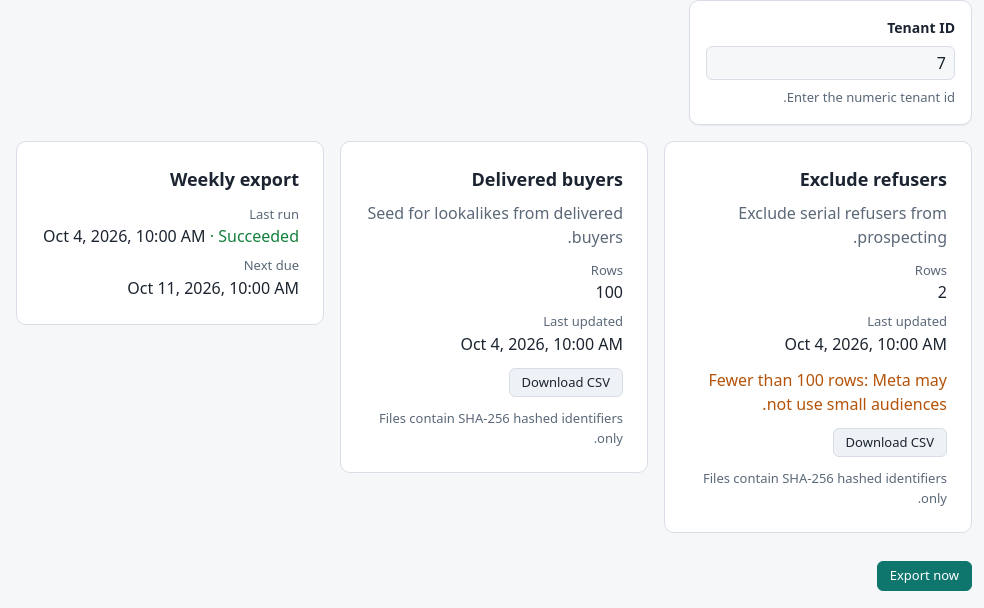
Test: AudiencesPage: behaviour › operator Export now posts and renders the refreshed status from the response
Expected: the heading "Exclude refusers" is shown, [800, 166, 947, 190]
Expected: the text "2" is shown, [938, 281, 947, 303]
Click the button "Export now" at (924, 576), box [877, 561, 972, 590]
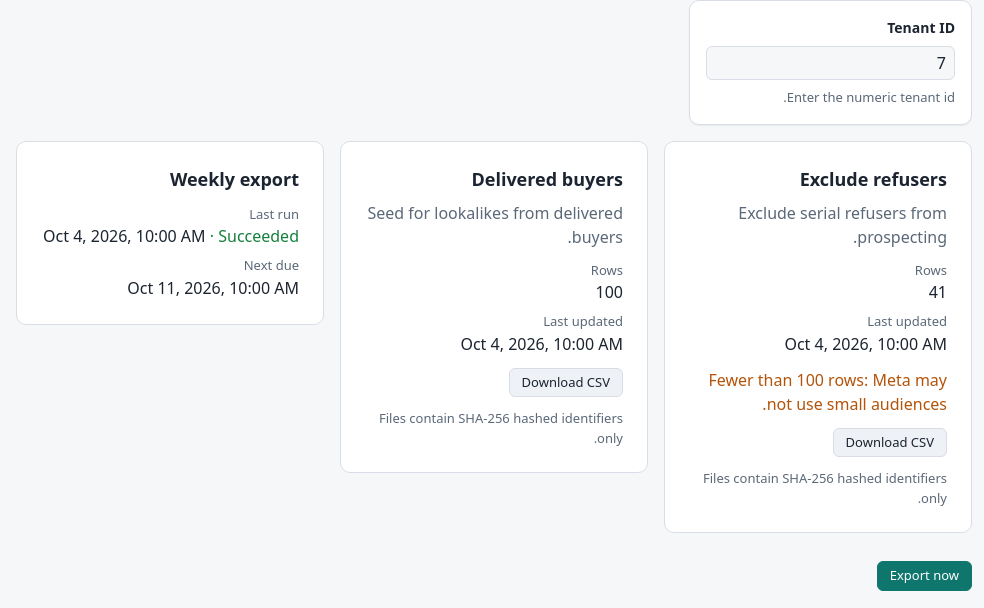
Expected: the text "41" is shown, [929, 281, 947, 303]
